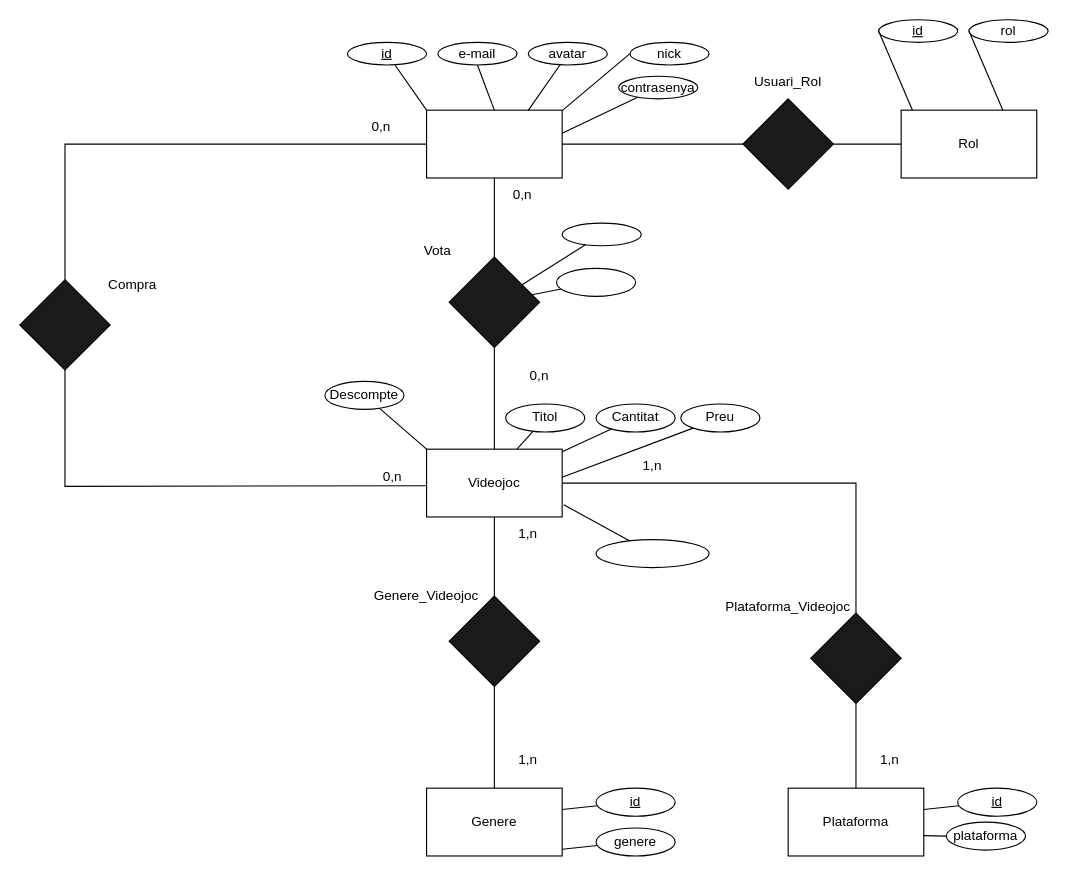
Image size: 1068x876. Some labels were removed from this diagram. The centre of each missing label's shape, as x and y in pixels:
comentari: pixel 595 281
puntuacio: pixel 601 234
usuari: pixel 493 143
Usuari_creador: pixel 652 553
